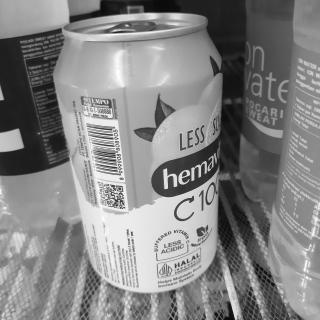alumunium_can: (52, 9, 225, 280)
